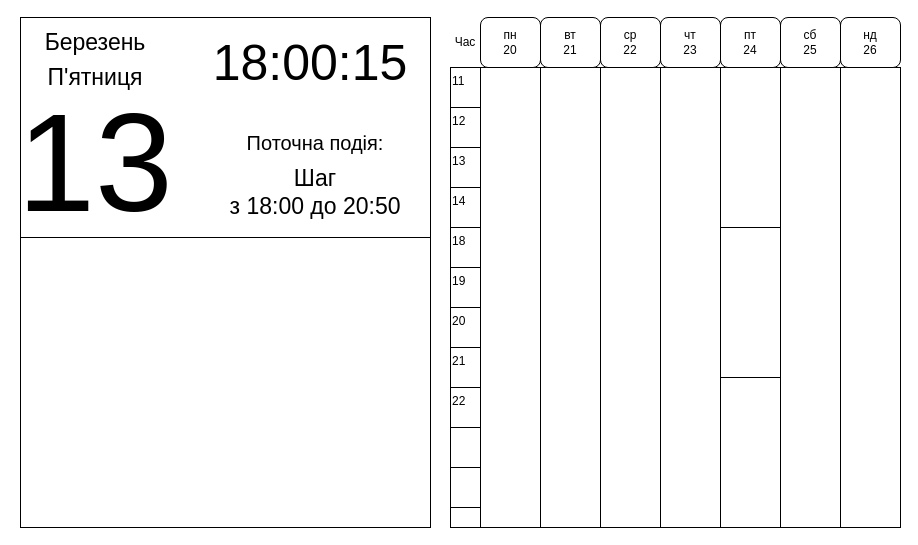
Image size: 918x545. Some labels were removed from this diagram. Each missing label, with the centre of its shape:
"Березень 2023" goes at [225,382].
"Шаг" goes at [750,302].
